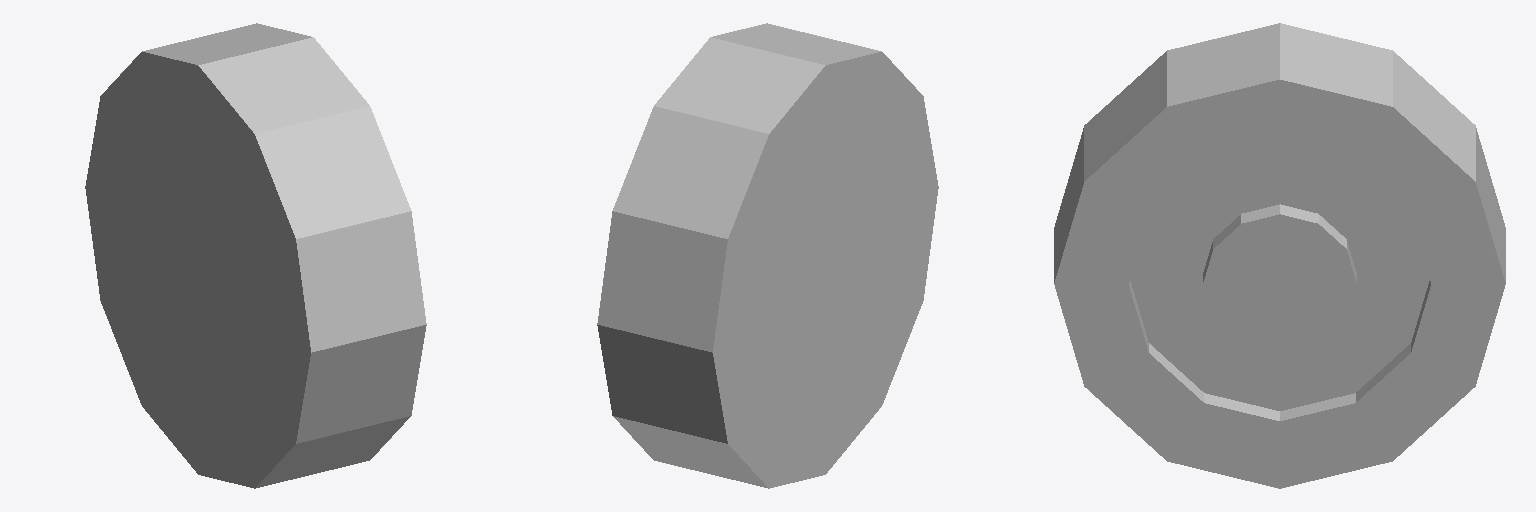
Rendered from lightCarTire.obj.
3 views of the same model, side by side, from view 1: azimuth 30°, elevation 25°; view 2: azimuth 150°, elevation 25°; view 3: azimuth 270°, elevation 25° (orthographic).
Parts seen in each view (by area): view 1: Cube; view 2: Cube; view 3: Cube.
Part boxes in pixels (left/top/right/bottom): Cube: left=85, top=23, right=426, bottom=488; Cube: left=597, top=23, right=938, bottom=488; Cube: left=1054, top=23, right=1505, bottom=488.
Size of the model in its own units: 0.2782 by 0.9425 by 0.9425.